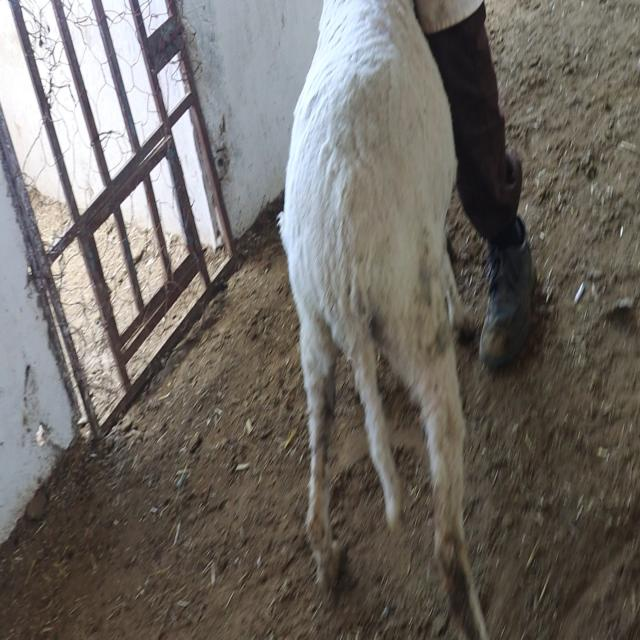Score_4: (278, 0, 488, 639)
